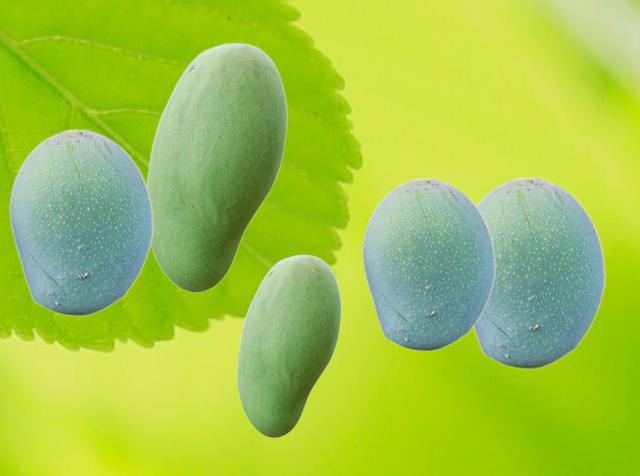green_mango: (145, 42, 286, 292), (8, 128, 153, 316), (472, 176, 605, 369), (361, 177, 495, 351), (236, 254, 340, 437)
